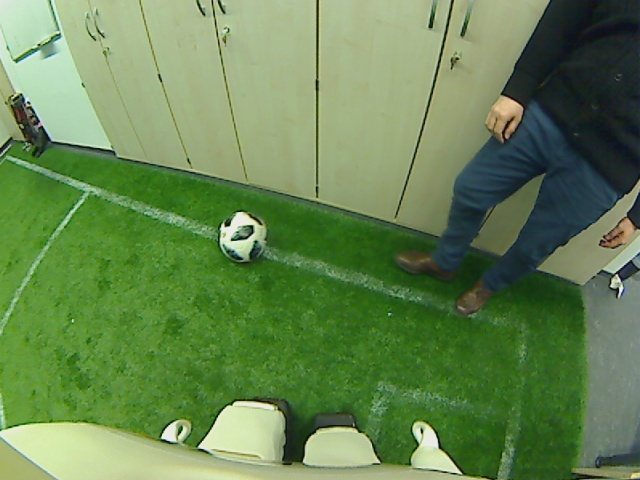ball: (216, 210, 269, 263)
